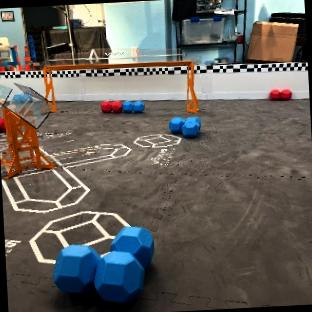Goal: (42, 48, 198, 112), (0, 81, 52, 177)
V5_BLUE: (53, 226, 152, 302), (169, 115, 200, 136), (122, 100, 143, 112)
V5_RED: (270, 89, 291, 99), (110, 101, 122, 112), (101, 100, 112, 111), (0, 117, 4, 129)
